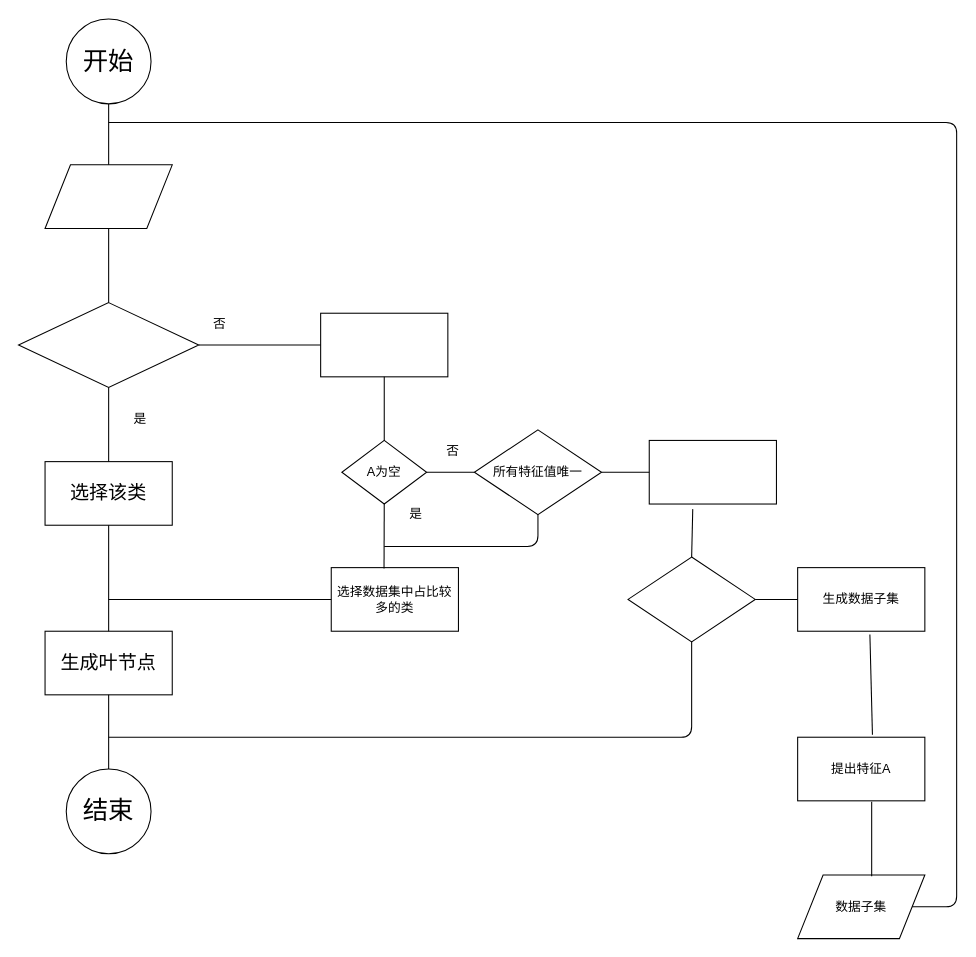
This 976x957 diagram has some shape labels left out. Each missing label, with the box of its shape:
所有样本为同一类: (17, 302, 199, 387)
提取特征集A: (320, 312, 448, 377)
数据集: (44, 164, 172, 228)
特征值遍历结束: (627, 556, 755, 642)
选择最优划分特征a生成结点: (648, 439, 776, 504)
